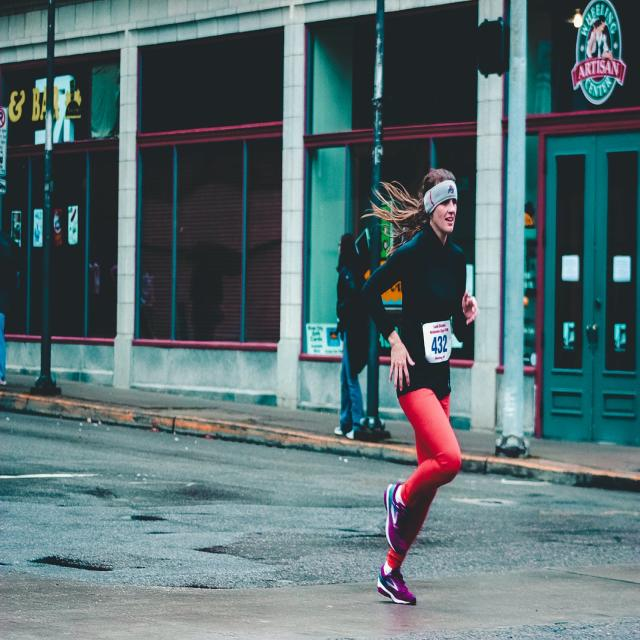running: (361, 167, 478, 609)
